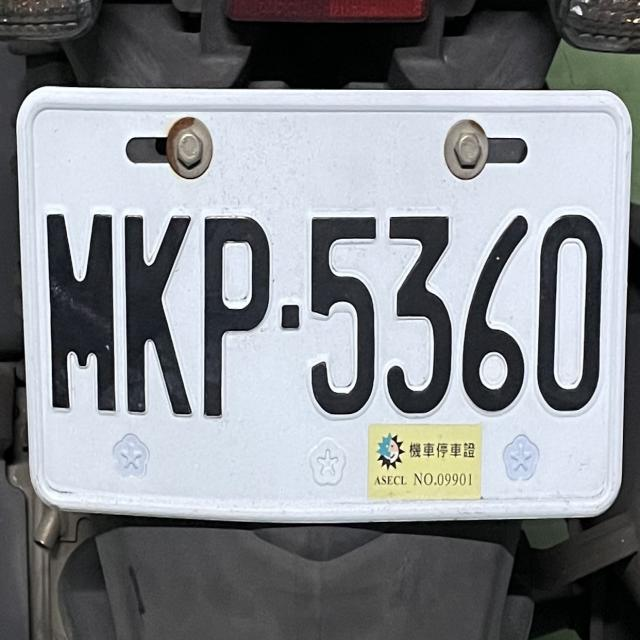license-plate: (12, 76, 638, 539)
